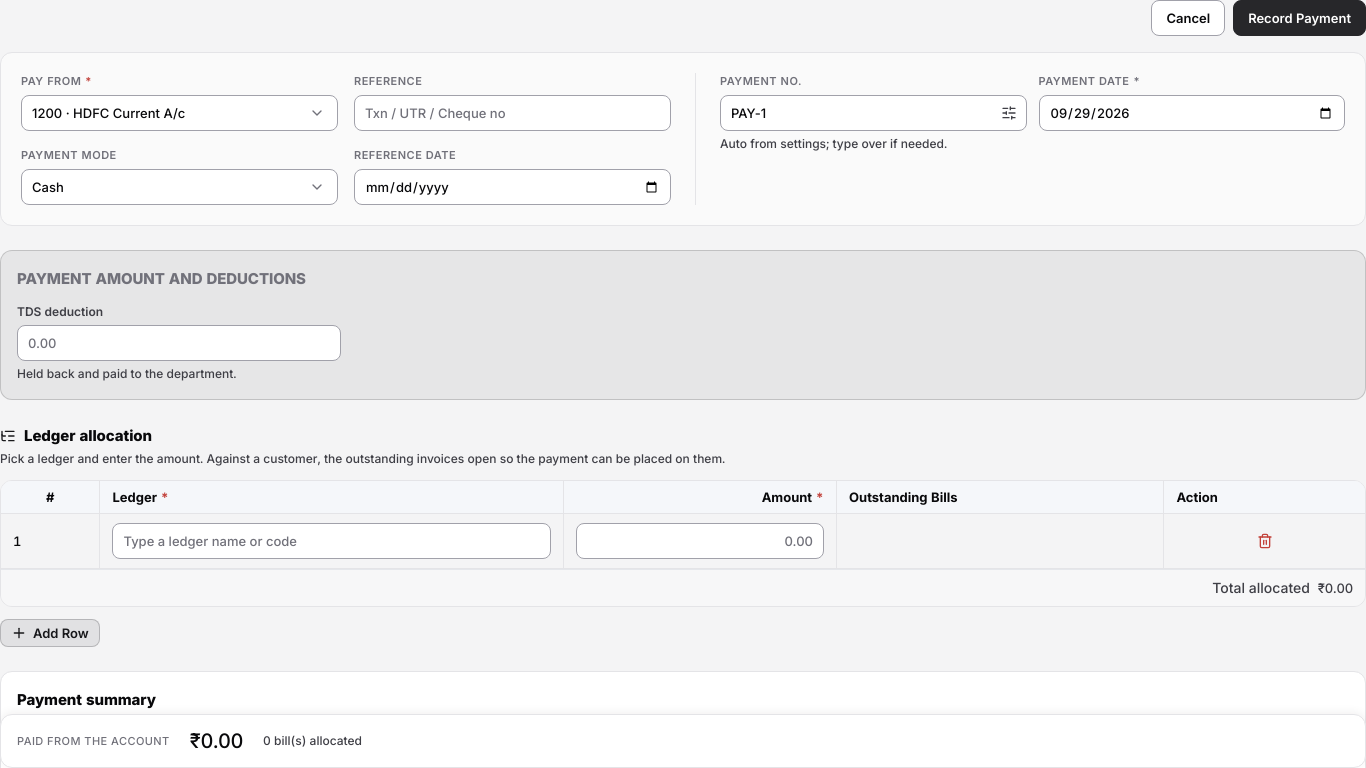
Test case: what the payment offers to deduct › refuses to suggest again where the bill already deducted
Type "Steel" into the dropdown named "Account, allocation row 1" at (332, 541), box x1=112 y1=523 x2=551 y2=559
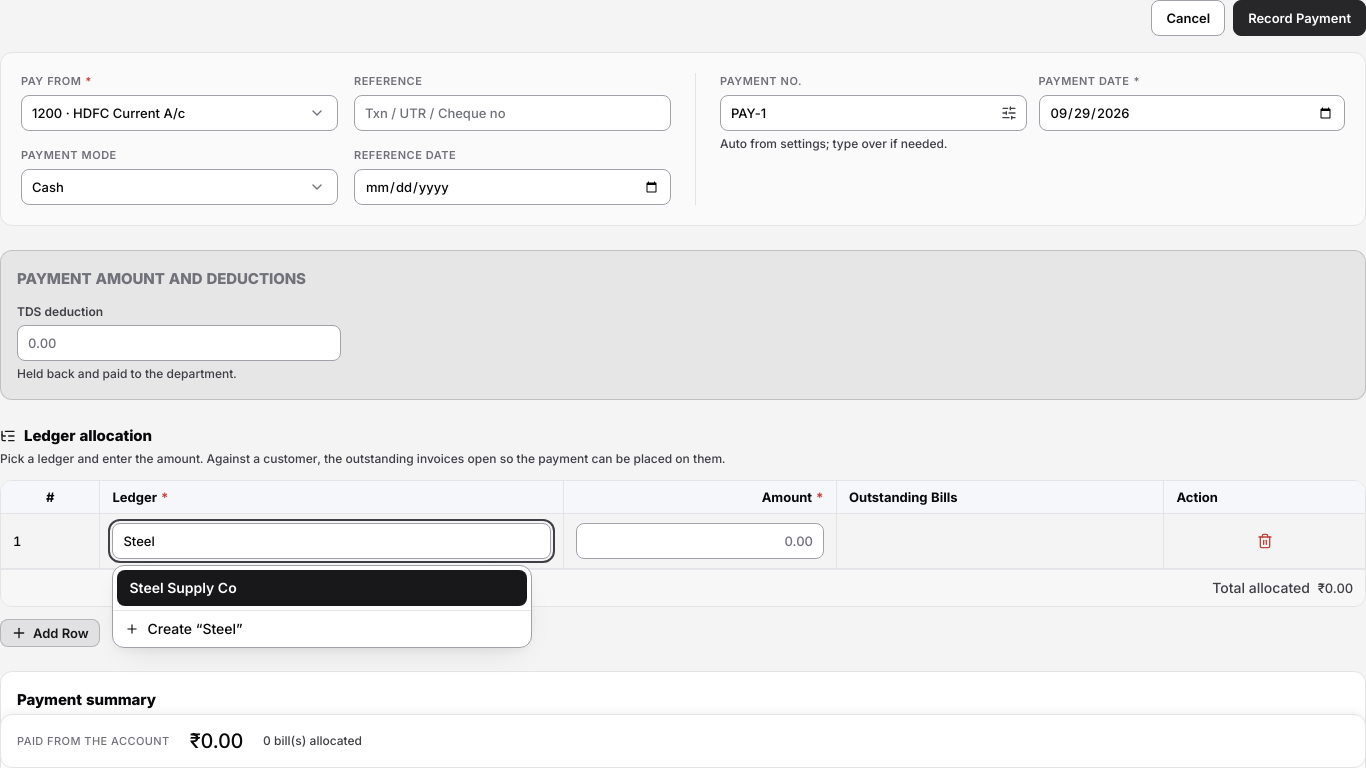
Click the option "Steel Supply Co" at (183, 588), box x1=118 y1=570 x2=528 y2=606
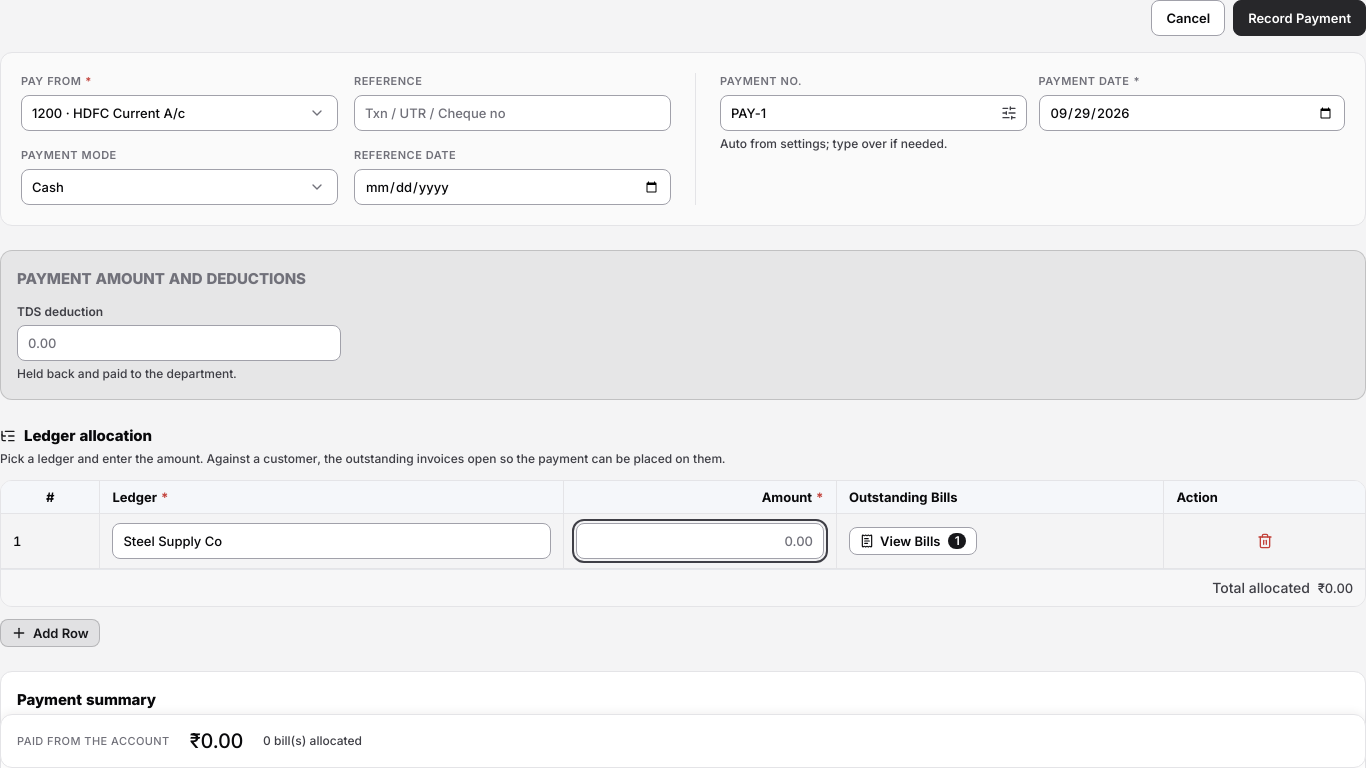
Type "118000" into the number field named "Amount, allocation row 1" at (700, 541), box x1=576 y1=523 x2=824 y2=559
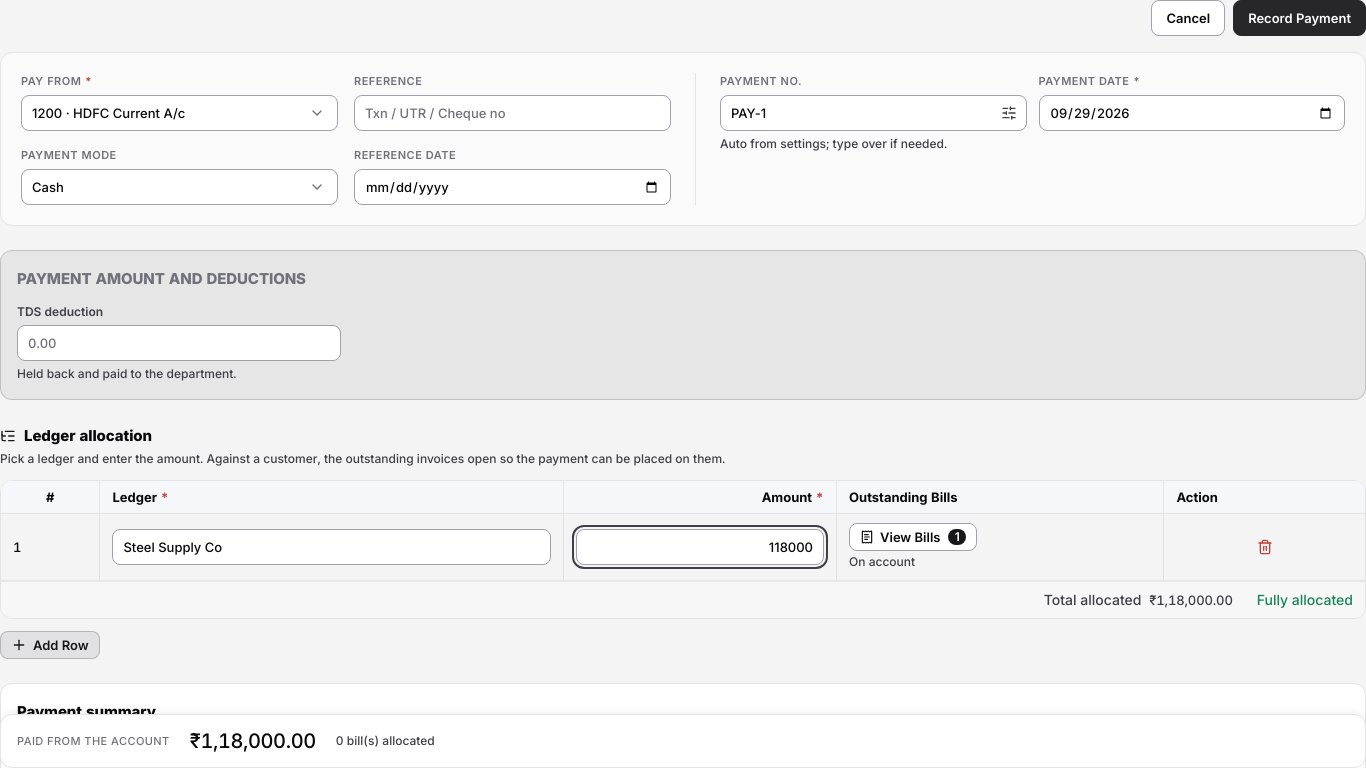
Click the button "View Bills 1" at (913, 537), box x1=849 y1=523 x2=978 y2=551
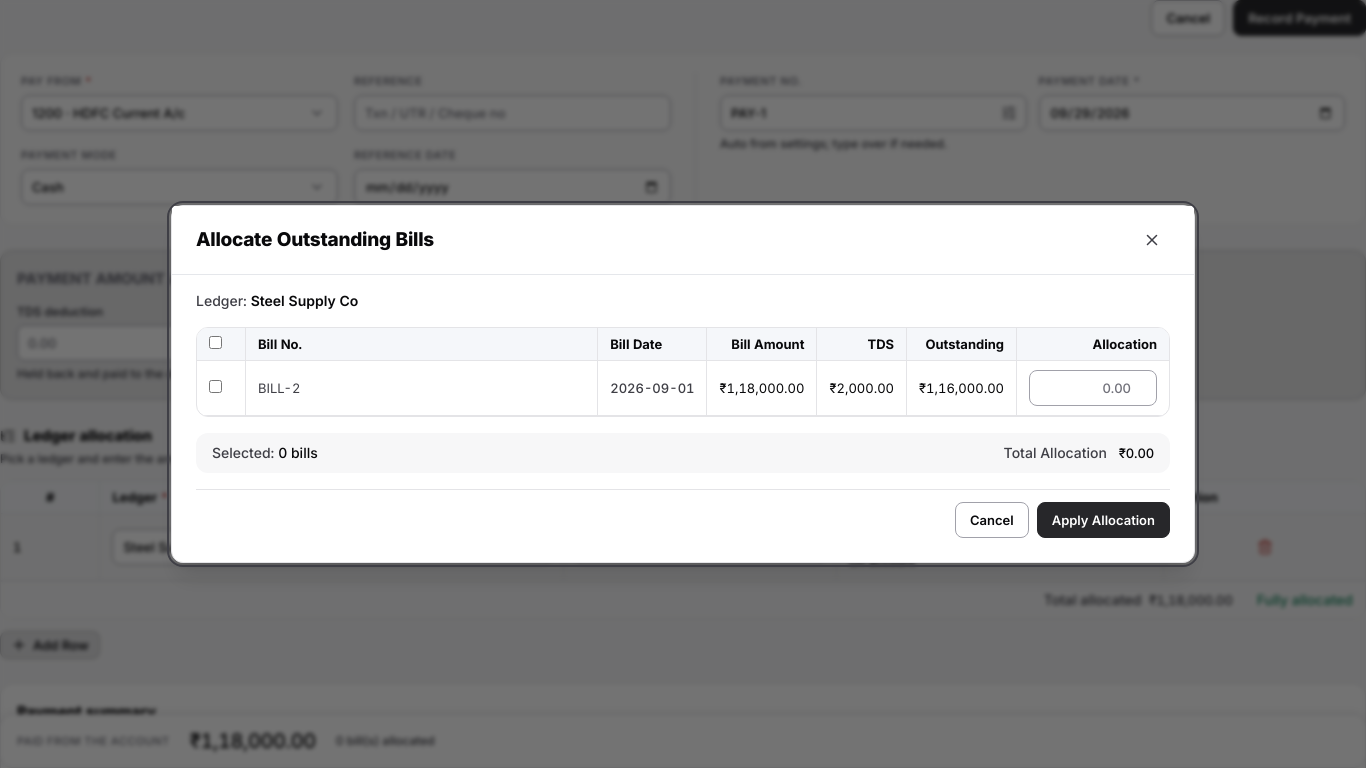
Click the checkbox named "Allocate against BILL-2" at (216, 386), box x1=209 y1=380 x2=222 y2=393
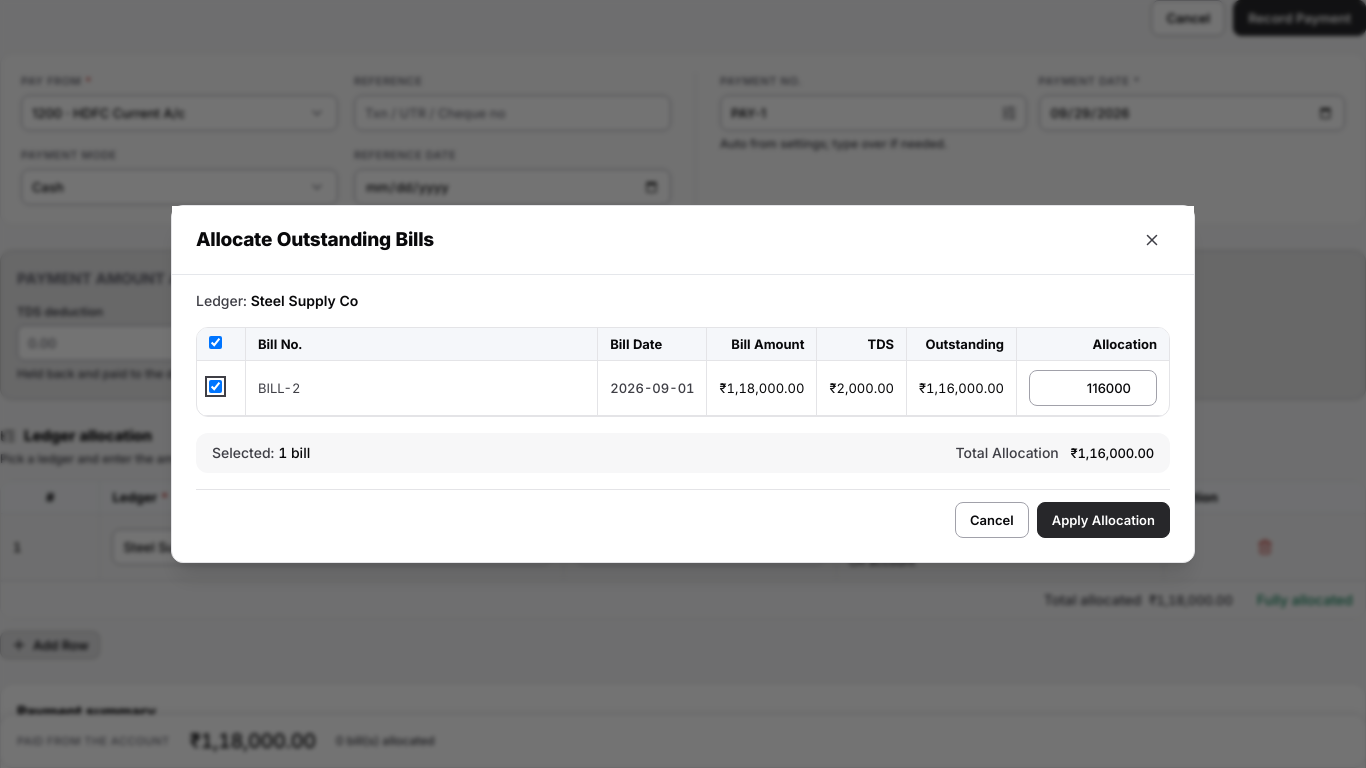
Click the button "Apply Allocation" at (1103, 520), box x1=1037 y1=502 x2=1170 y2=538
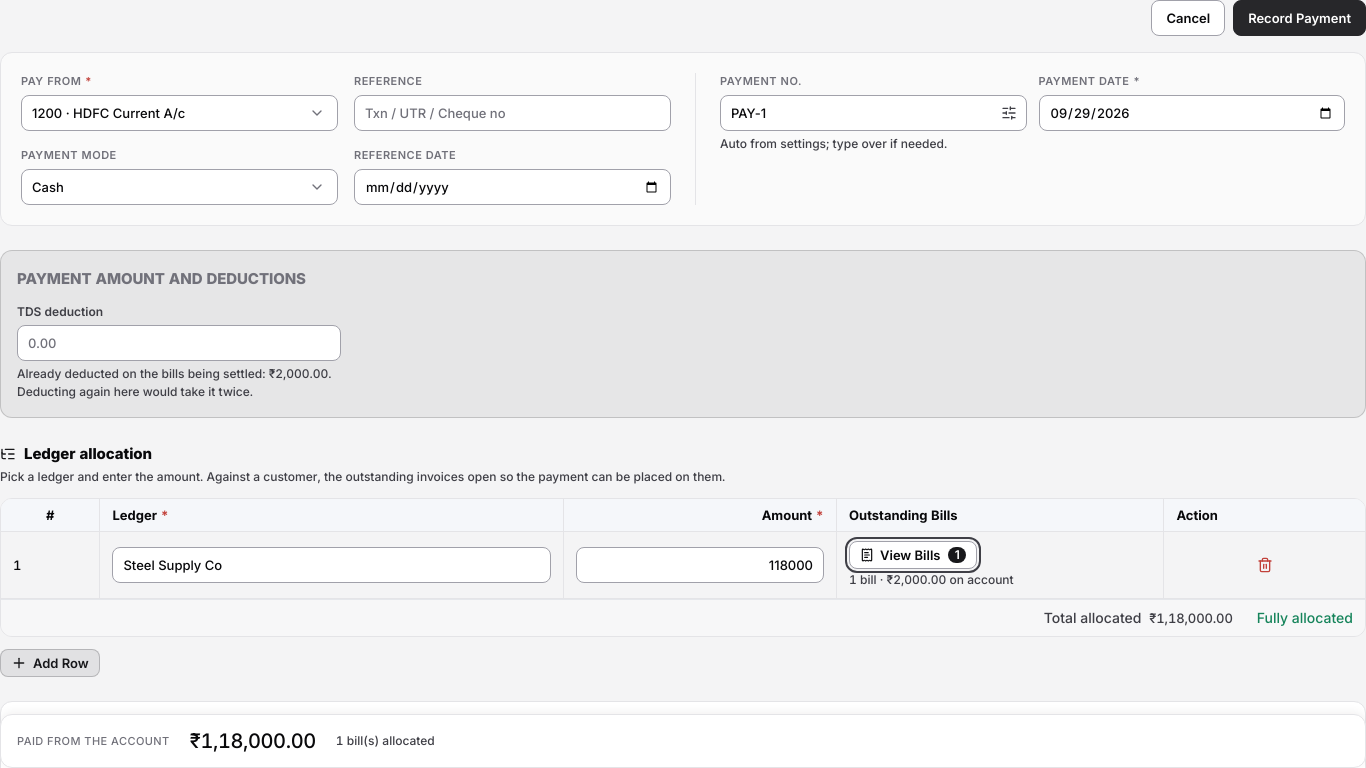
Now the text "Already deducted on the bills being settled: ₹2,000.00" is shown, box x1=17 y1=365 x2=341 y2=401
